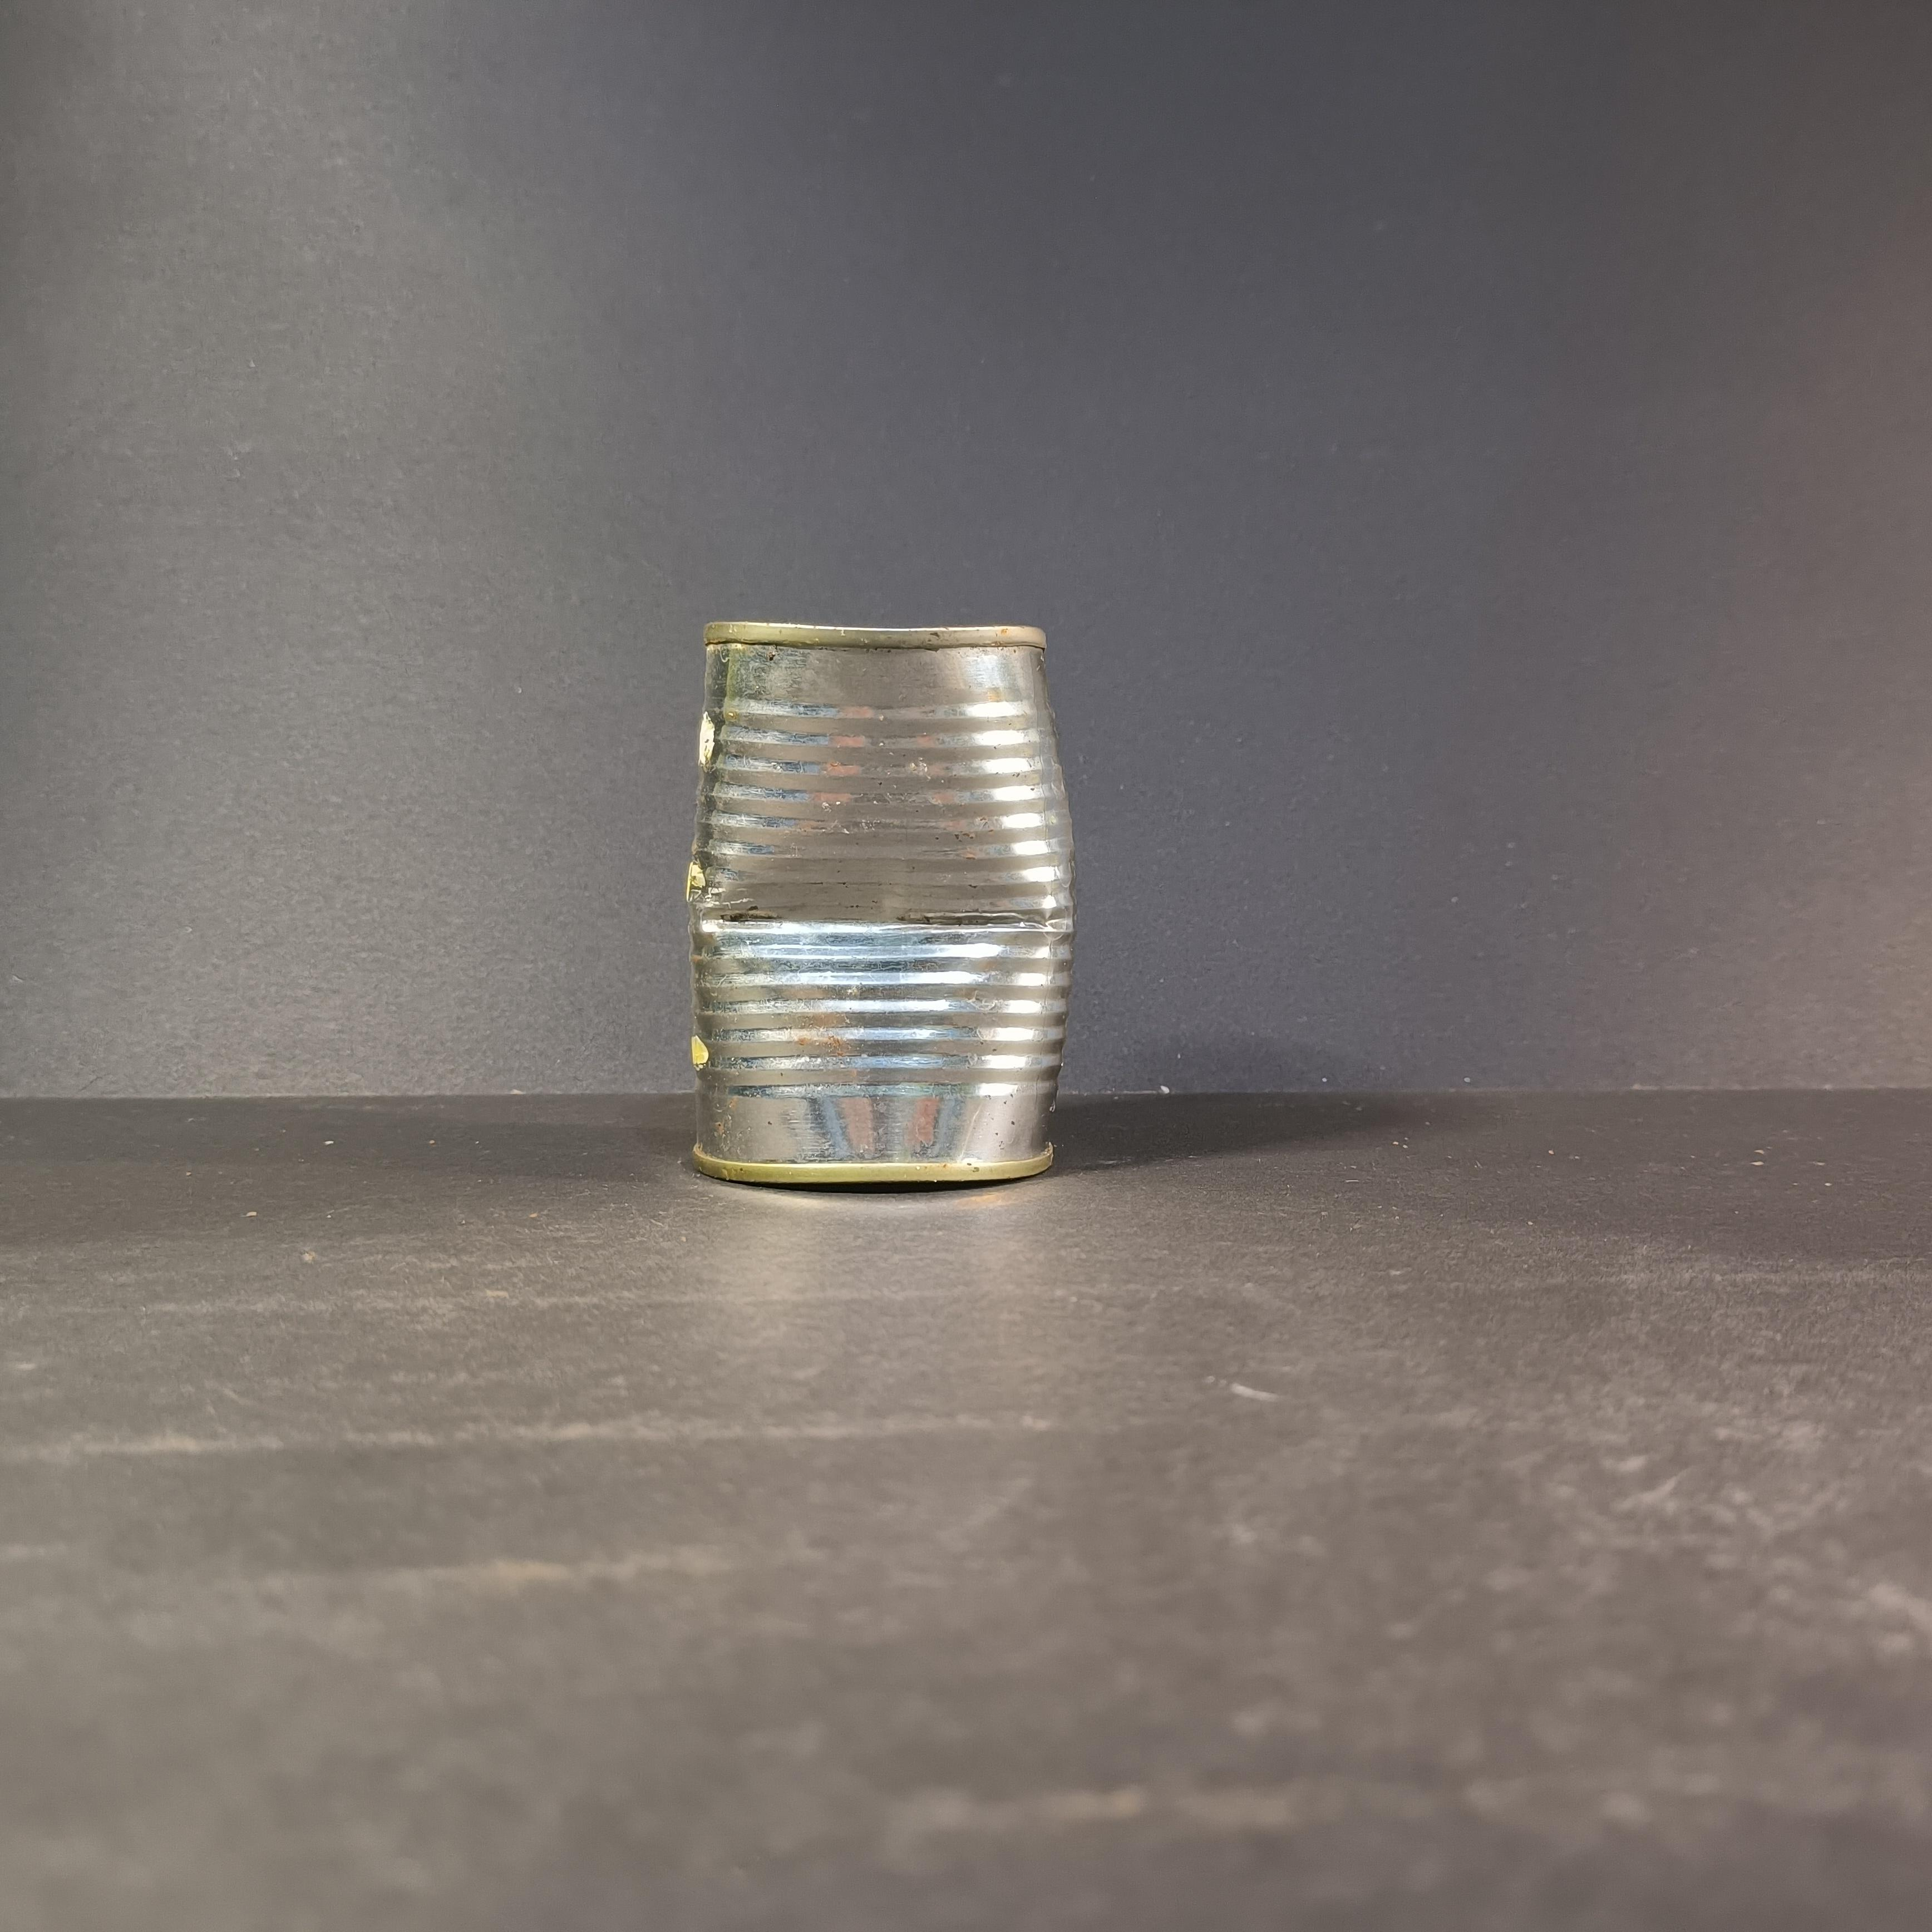Dented: (681, 602, 1097, 1207)
